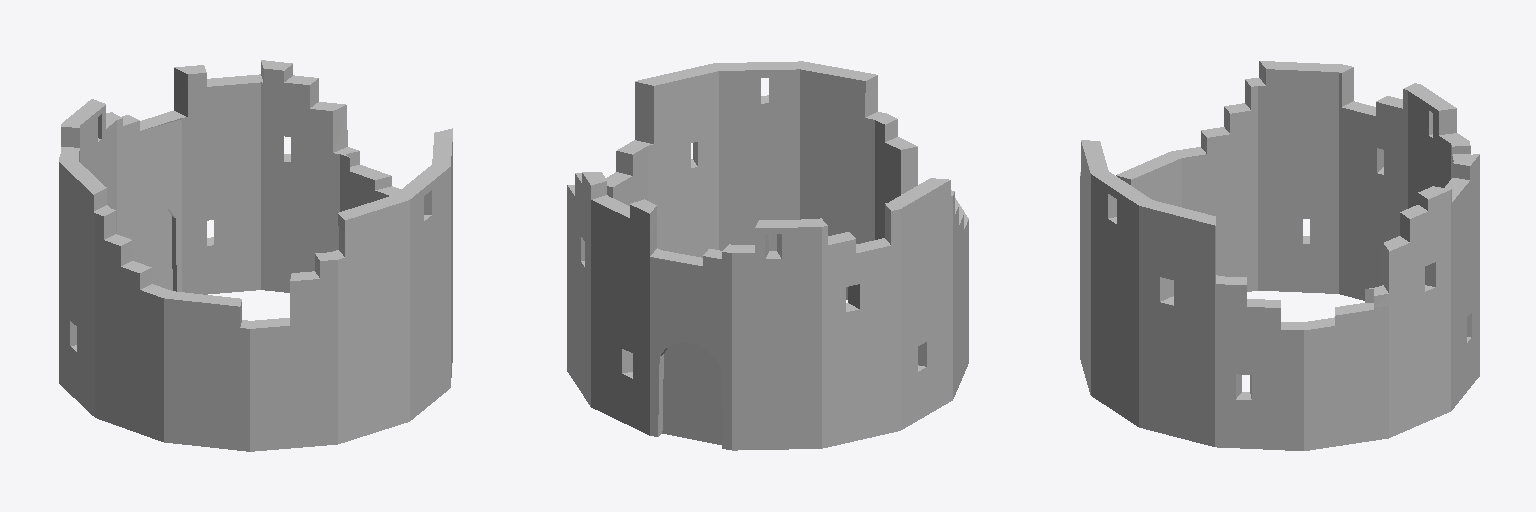
File: Tower.obj
The picture shows the model from 3 angles: view 1: azimuth 30°, elevation 25°; view 2: azimuth 150°, elevation 25°; view 3: azimuth 270°, elevation 25°; orthographic projection.
Visible parts, largest first — view 1: Tube02; view 2: Tube02; view 3: Tube02.
Boxes of the visible parts, x1,y1,x2,y2 form: Tube02: [59, 60, 452, 451]; Tube02: [567, 61, 968, 450]; Tube02: [1080, 61, 1479, 450].
Size of the model in its own units: 769 by 471 by 771.